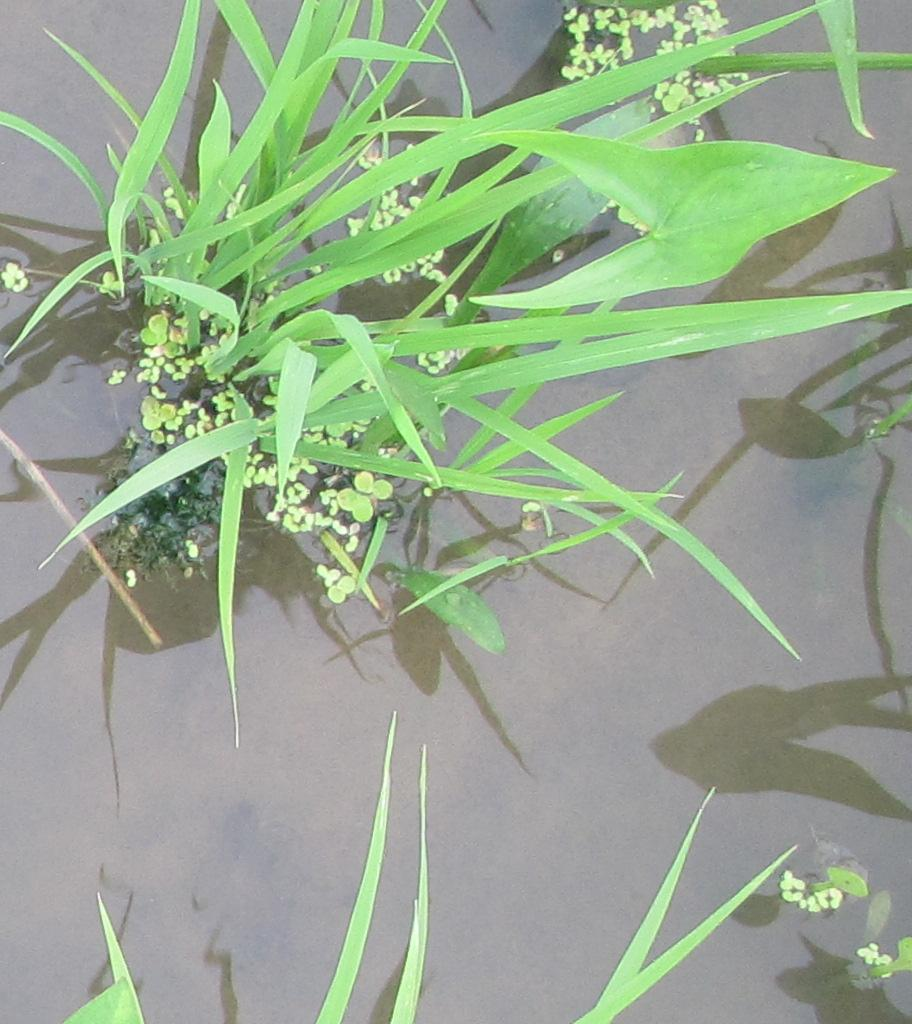Weed: (531, 141, 893, 299)
